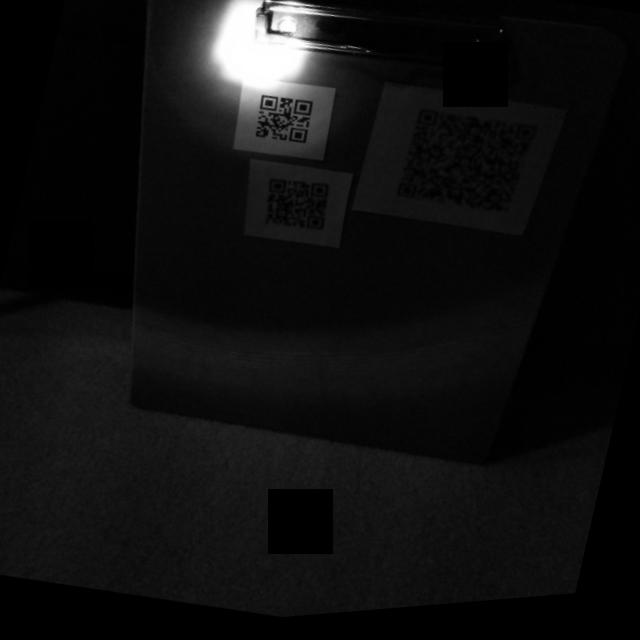QR_CODE: (384, 91, 548, 244), (245, 160, 349, 255), (238, 78, 328, 163)
